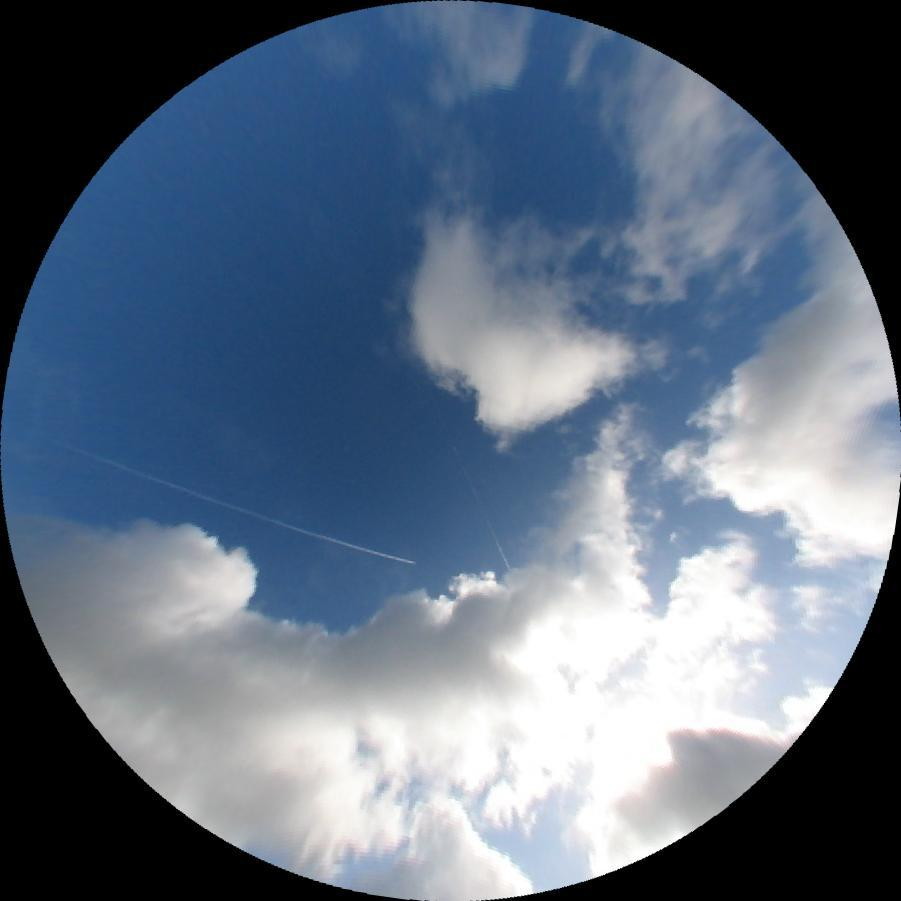contrail young: (73, 448, 416, 570), (469, 482, 511, 569)
